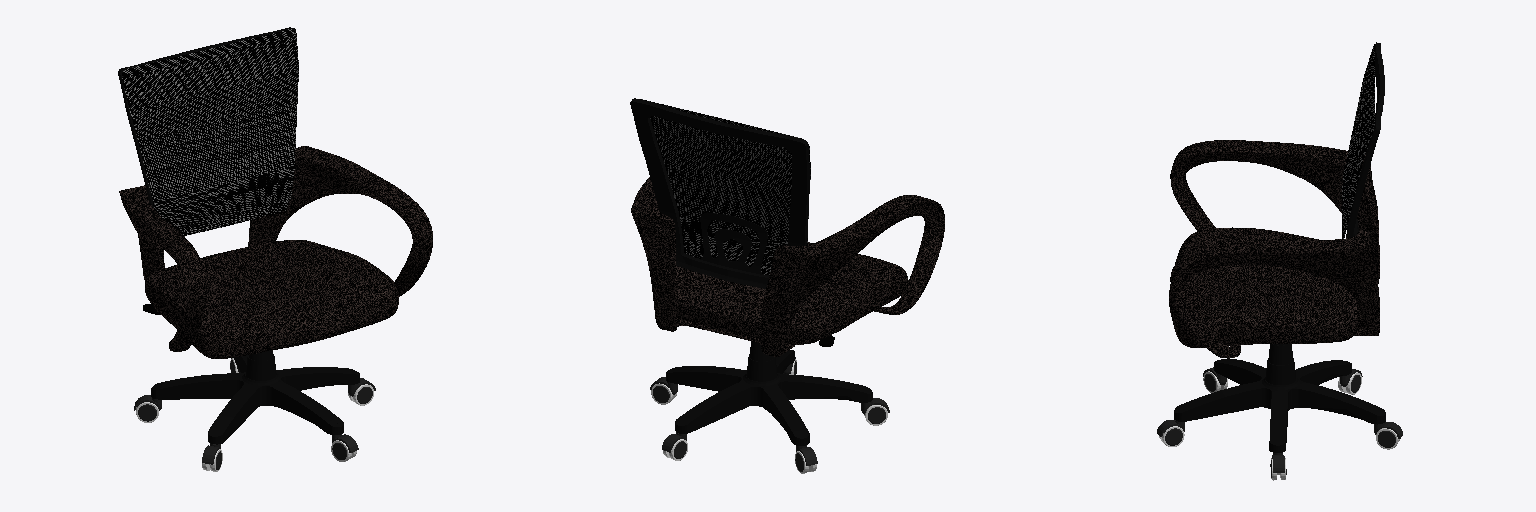
3 renders of one model, left to right at view 1: azimuth 30°, elevation 25°; view 2: azimuth 150°, elevation 25°; view 3: azimuth 270°, elevation 25°, orthographic.
Parts seen in each view (by area): view 1: Mesh3 Group7 Group6 Group1 Group_837_1 Model, Mesh26 Group_834_1 Group_837_1 Model, Mesh4 Group8 Burokrat1_1 Group_837_1 Model, Mesh24 Group_835_1 Group_837_1 Model, Mesh25 Group_835_2 Group_837_1 Model, Mesh1 Group3 Group2 Group1 Group_837_1 Model; view 2: Mesh3 Group7 Group6 Group1 Group_837_1 Model, Mesh26 Group_834_1 Group_837_1 Model, Mesh25 Group_835_2 Group_837_1 Model, Mesh4 Group8 Burokrat1_1 Group_837_1 Model, Mesh1 Group3 Group2 Group1 Group_837_1 Model, Mesh24 Group_835_1 Group_837_1 Model, Mesh2 Group5 Group4 Group2 Group1 Group_837_1 Model; view 3: Mesh26 Group_834_1 Group_837_1 Model, Mesh24 Group_835_1 Group_837_1 Model, Mesh4 Group8 Burokrat1_1 Group_837_1 Model, Mesh25 Group_835_2 Group_837_1 Model, Mesh3 Group7 Group6 Group1 Group_837_1 Model, Mesh1 Group3 Group2 Group1 Group_837_1 Model.
Part boxes in pixels (x1,y1,x2,y2): Mesh3 Group7 Group6 Group1 Group_837_1 Model: (122,29,298,235); Mesh26 Group_834_1 Group_837_1 Model: (145,240,398,358); Mesh4 Group8 Burokrat1_1 Group_837_1 Model: (151,351,359,444); Mesh24 Group_835_1 Group_837_1 Model: (248,146,432,296); Mesh25 Group_835_2 Group_837_1 Model: (119,185,207,351); Mesh1 Group3 Group2 Group1 Group_837_1 Model: (118,27,296,207); Mesh3 Group7 Group6 Group1 Group_837_1 Model: (640,99,810,275); Mesh26 Group_834_1 Group_837_1 Model: (676,242,908,344); Mesh25 Group_835_2 Group_837_1 Model: (728,195,944,356); Mesh4 Group8 Burokrat1_1 Group_837_1 Model: (666,341,872,445); Mesh1 Group3 Group2 Group1 Group_837_1 Model: (630,98,809,288); Mesh24 Group_835_1 Group_837_1 Model: (631,177,728,334); Mesh2 Group5 Group4 Group2 Group1 Group_837_1 Model: (700,213,767,274); Mesh26 Group_834_1 Group_837_1 Model: (1169,227,1360,347); Mesh24 Group_835_1 Group_837_1 Model: (1170,228,1379,357); Mesh4 Group8 Burokrat1_1 Group_837_1 Model: (1174,344,1385,452); Mesh25 Group_835_2 Group_837_1 Model: (1170,140,1379,283); Mesh3 Group7 Group6 Group1 Group_837_1 Model: (1342,44,1374,238); Mesh1 Group3 Group2 Group1 Group_837_1 Model: (1346,42,1384,237).
Size of the model in its own units: 3.81 by 5.05 by 3.28.
Materials: 114 (106 with a texture image).